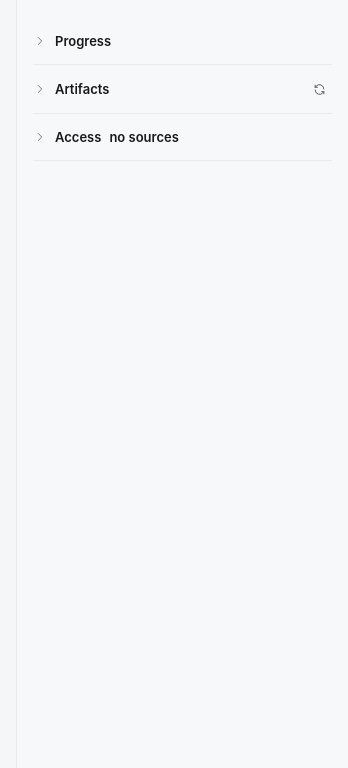
Test: RightRail Artifacts — which root a file is in › labels a file outside scratch with its root, and leaves scratch files unlabelled
Click the button with test id "rail-toggle-artifacts". click: (82, 89)
box: [33, 81, 298, 97]
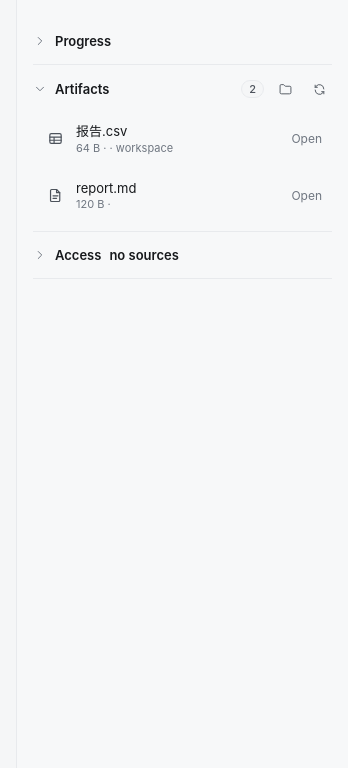
Expected: the text "报告.csv" is shown, [76, 123, 127, 139]
Expected: the number of elements with test id "artifact-root-tag" is 1, [110, 141, 173, 155]
Expected: the text with test id "artifact-root-tag" shows "workspace", [116, 141, 173, 155]
